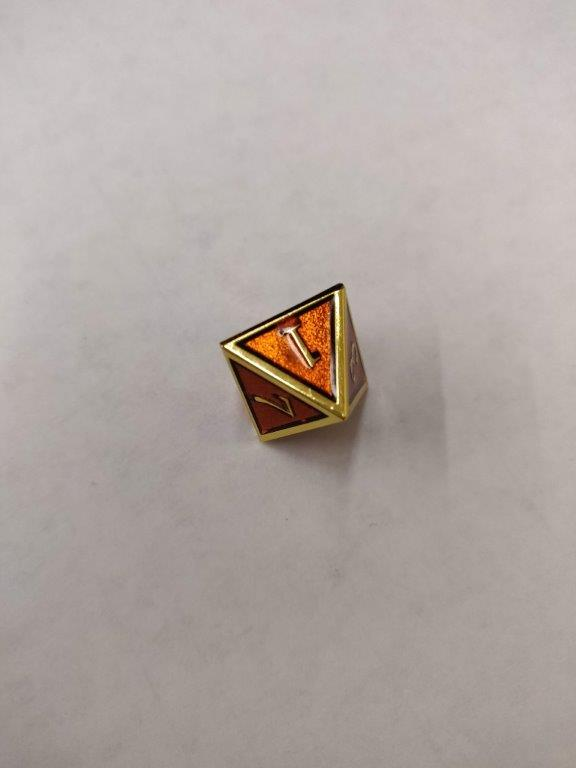d8-1: (218, 283, 374, 439)
